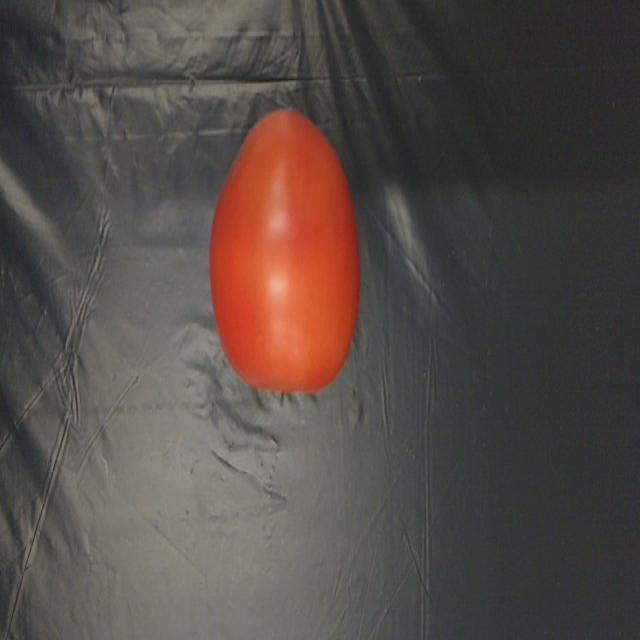kirmizi: (200, 70, 370, 400)
